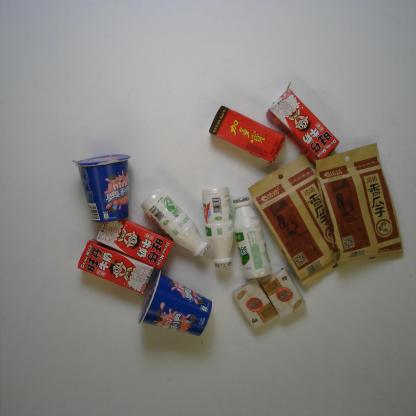Dessert: (136, 271, 214, 337), (72, 152, 132, 225)
Dried Food: (248, 151, 357, 287), (315, 142, 405, 268)
Drink: (208, 104, 285, 165)
Milk: (266, 88, 340, 162), (140, 188, 211, 258), (92, 213, 177, 270), (72, 239, 152, 295), (232, 196, 271, 282), (199, 184, 234, 268)
Tissue: (229, 278, 280, 327), (258, 267, 305, 318)
